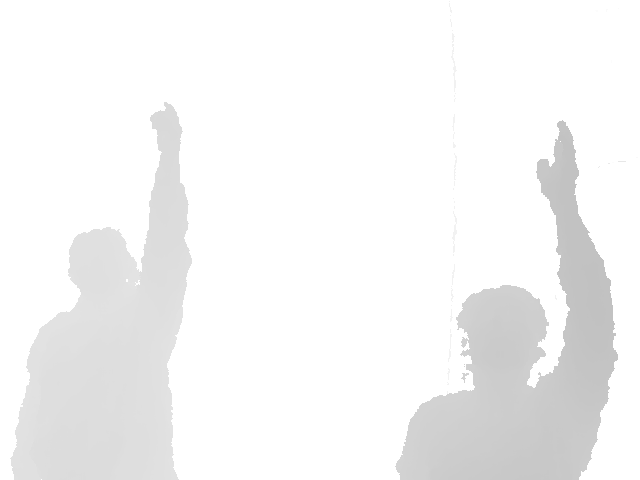hand: (535, 119, 580, 210), (149, 100, 184, 158)
head: (457, 284, 550, 398), (68, 227, 140, 314)
person: (393, 119, 619, 480), (10, 99, 194, 480)
